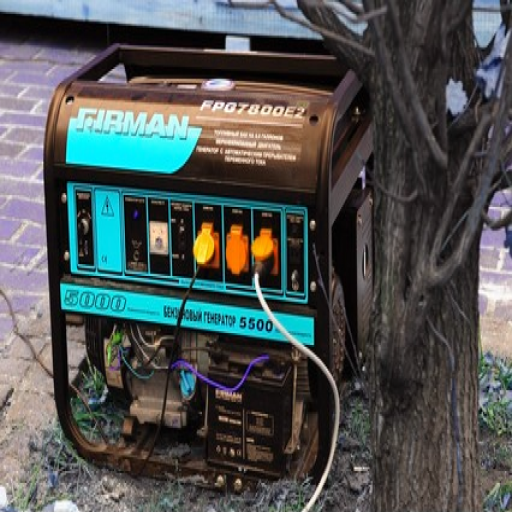portable_generator: (43, 43, 392, 483)
